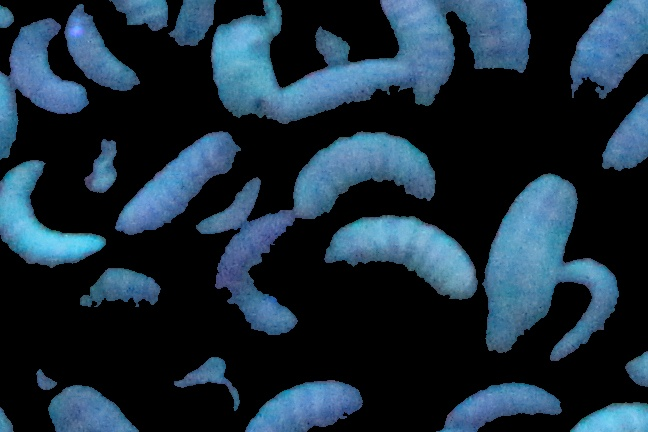larvae: (485, 175, 579, 353), (324, 214, 479, 300), (117, 130, 241, 236), (295, 132, 433, 217), (1, 156, 104, 267), (215, 212, 298, 339), (271, 59, 413, 123), (566, 1, 648, 99), (384, 1, 458, 108), (551, 254, 620, 359), (11, 18, 87, 113), (246, 373, 366, 432), (212, 14, 279, 113), (67, 3, 143, 90), (438, 383, 569, 432), (56, 269, 162, 325), (462, 1, 532, 74), (40, 386, 143, 432), (193, 170, 262, 234), (599, 103, 648, 173), (566, 401, 648, 432), (170, 1, 217, 49), (108, 1, 171, 30)
